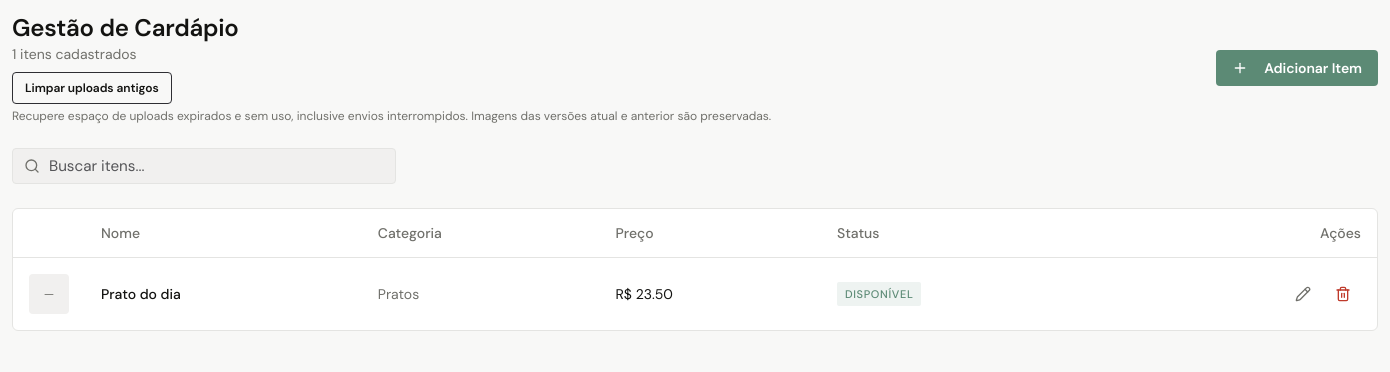
owner menu receipt and image ordering integration, reader=true › offers explicit authenticated cleanup after reopening without a remembered image target
Expected: the text "Prato do dia" is shown, [101,284,181,304]
Click the button "Limpar uploads antigos".
click(92, 88)  # box [12,72,172,104]
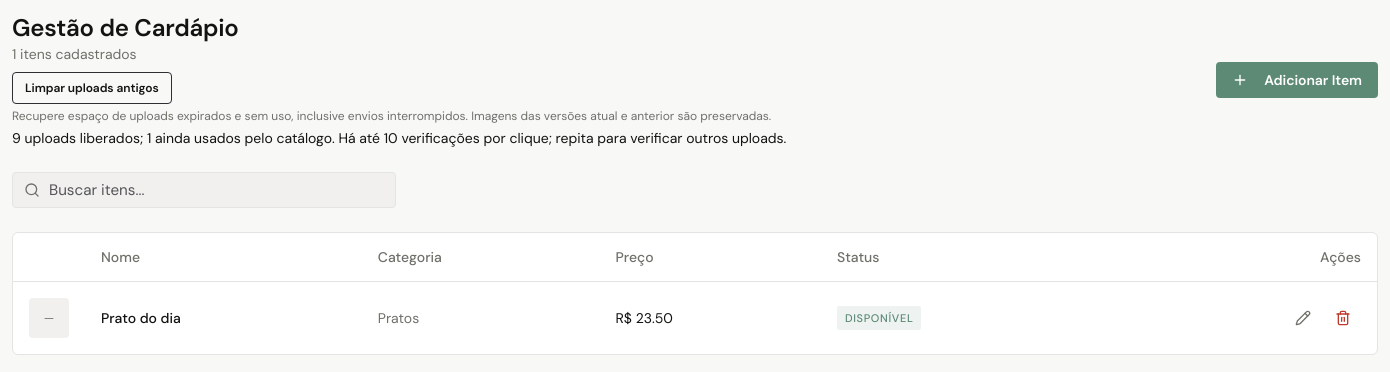
Now the text "9 uploads liberados" is shown, box [12,129,786,147]
